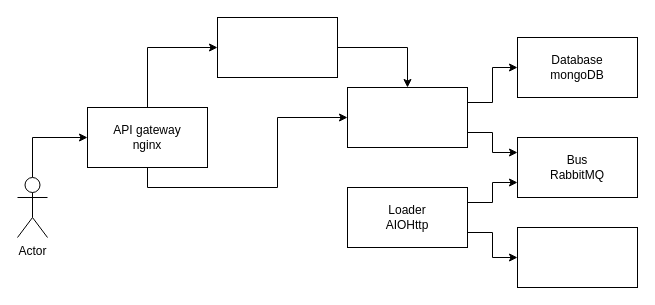
Image size: 655x305. Some labels were removed from this diagram. Here are the shapes that lost their labels. From the top down, the centre of each, then its label:
At (277,47): "Contract viewer swagger-ui".
At (407,117): "Backend AIOHttp".
At (577,257): "Bitcoin Server bitcoin-core".
